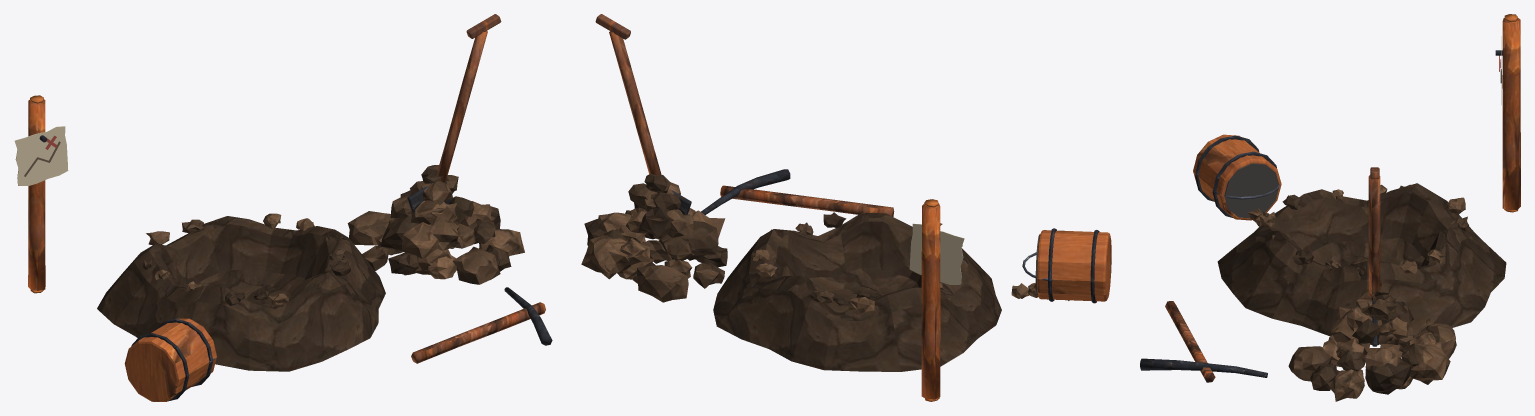
Rendered from op_x_marks_dig.glb.
3 views of the same model, side by side, from view 1: azimuth 30°, elevation 25°; view 2: azimuth 150°, elevation 25°; view 3: azimuth 270°, elevation 25° (orthographic). The views are drawn at different scales.
Visible parts, largest first — view 1: model; view 2: model; view 3: model.
Part boxes in pixels (x1,y1,x2,y2): model: (14, 14, 552, 401); model: (581, 14, 1111, 401); model: (1140, 14, 1520, 401).
Size of the model in its own units: 1.96 by 0.9765 by 1.45.
15 materials, 11 textured.
